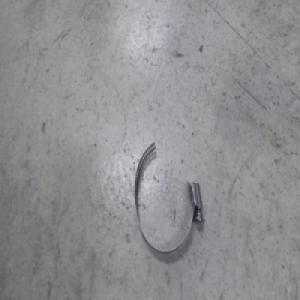AdjustableClamp: (132, 141, 202, 255)
